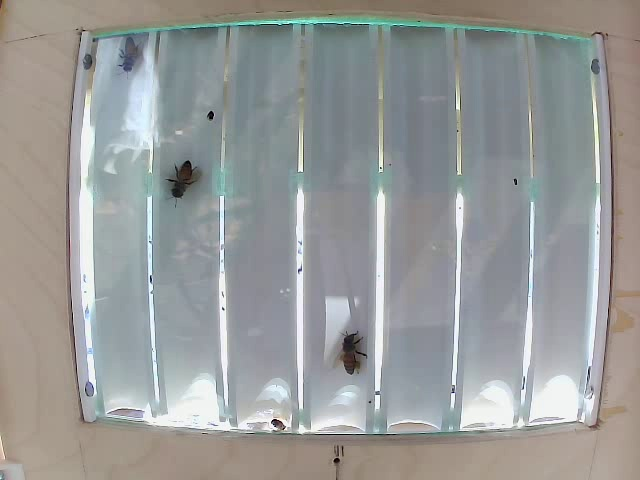bee: (116, 32, 151, 90), (166, 154, 199, 212), (343, 318, 362, 380)
